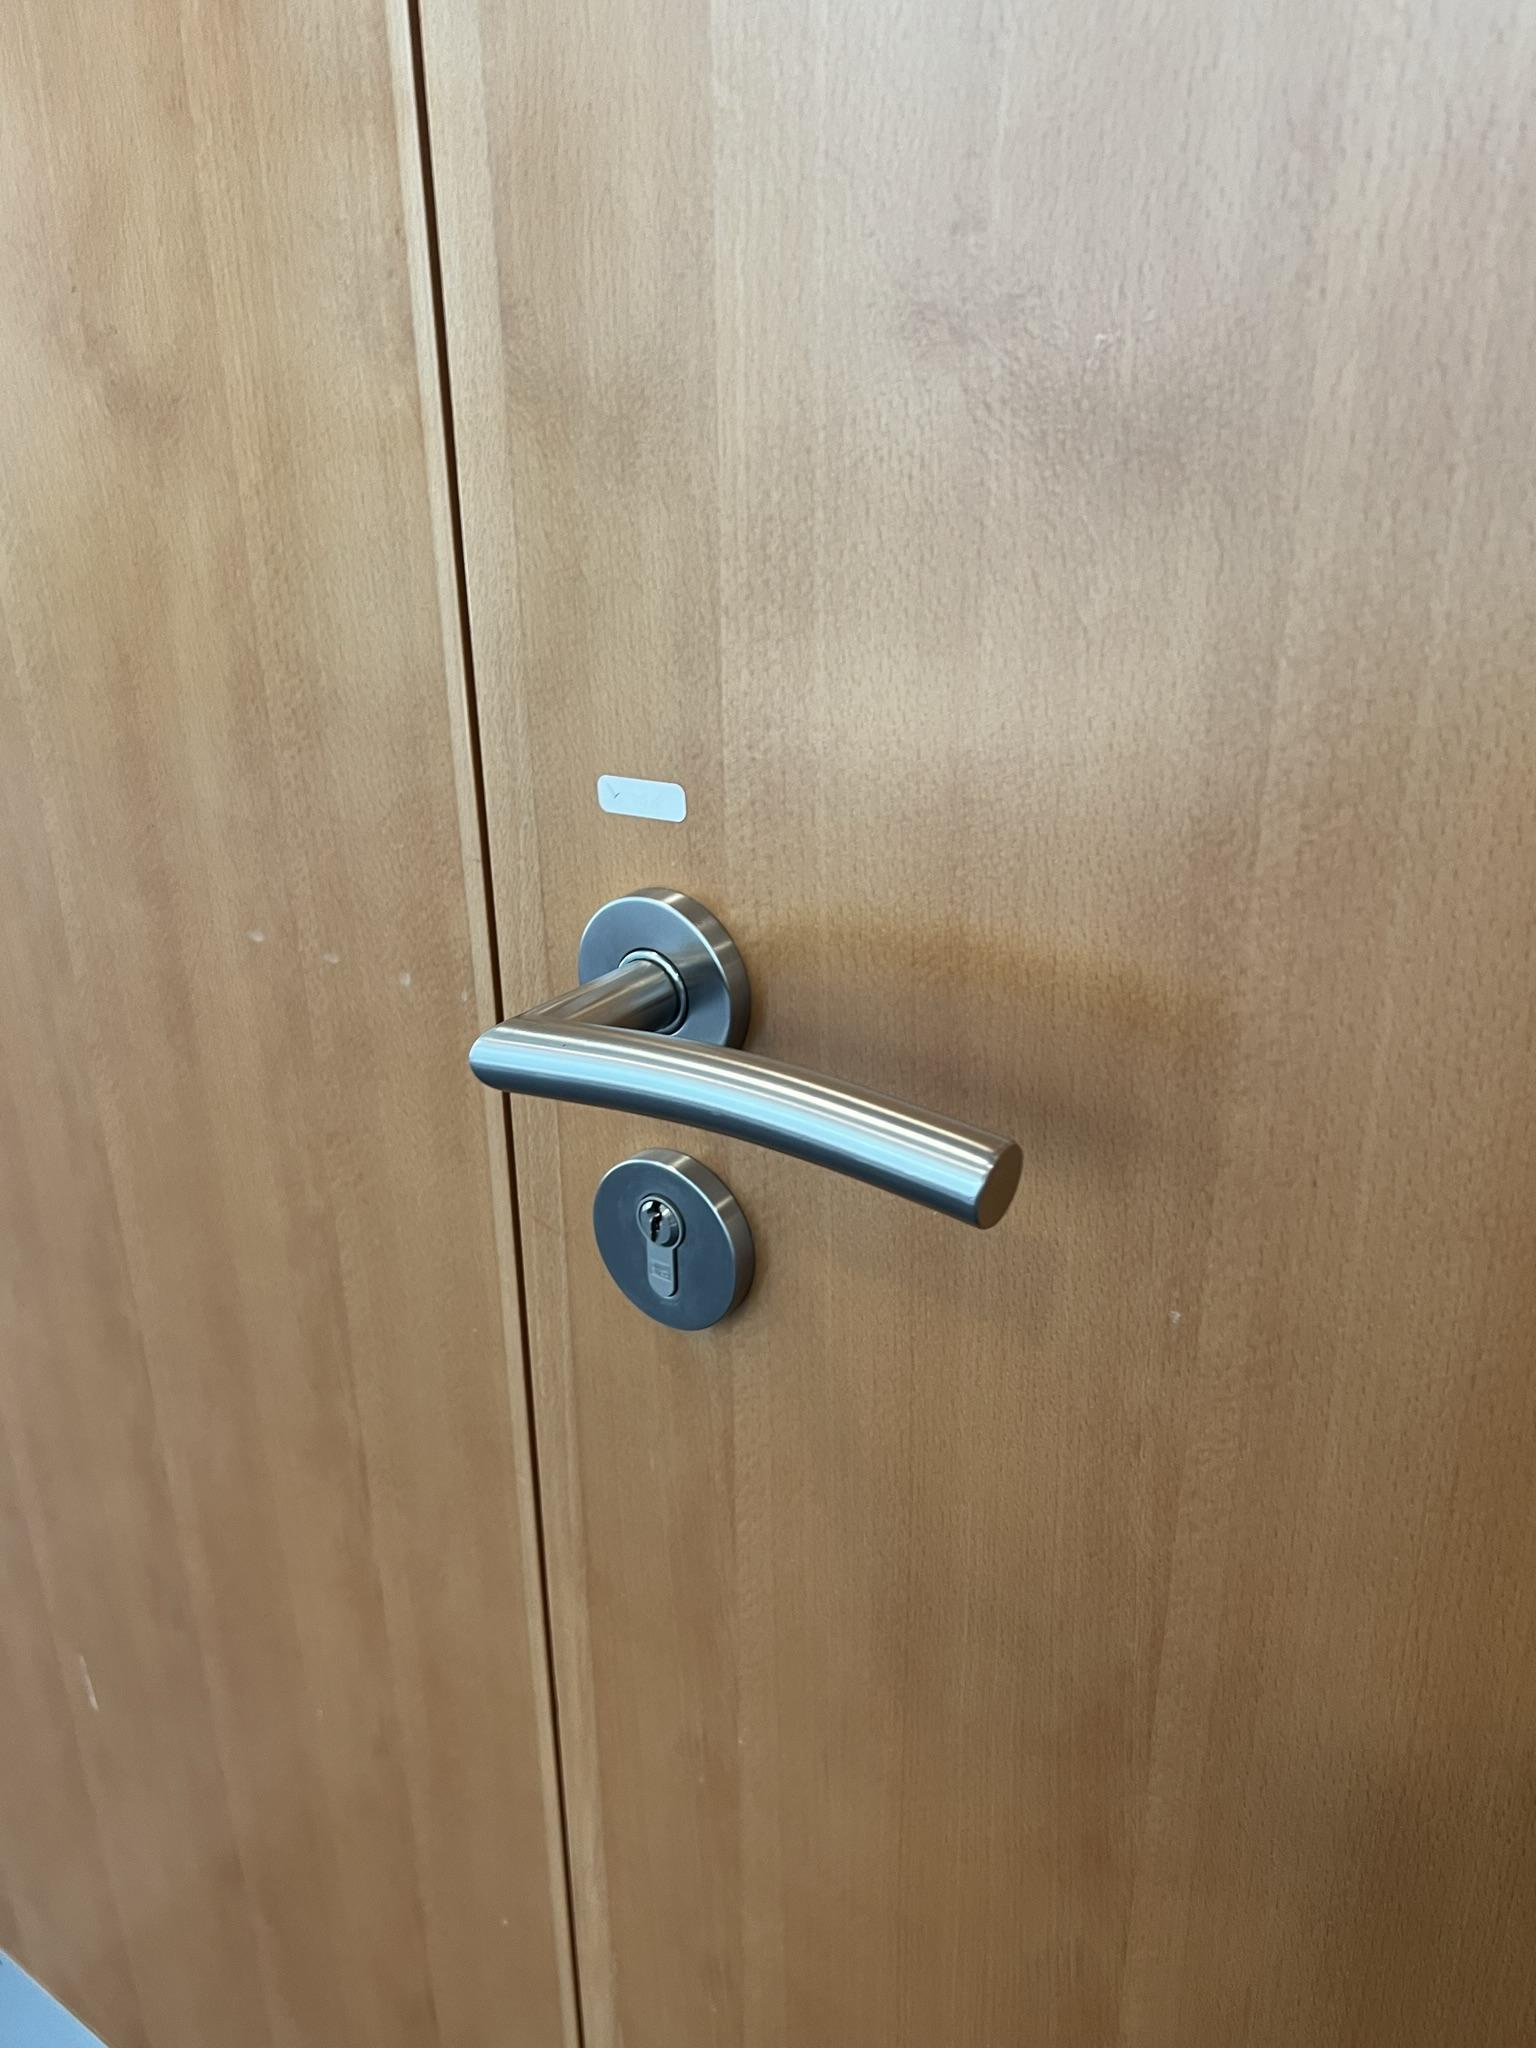door: (407, 2, 1536, 2048)
handle: (458, 856, 1029, 1214)
